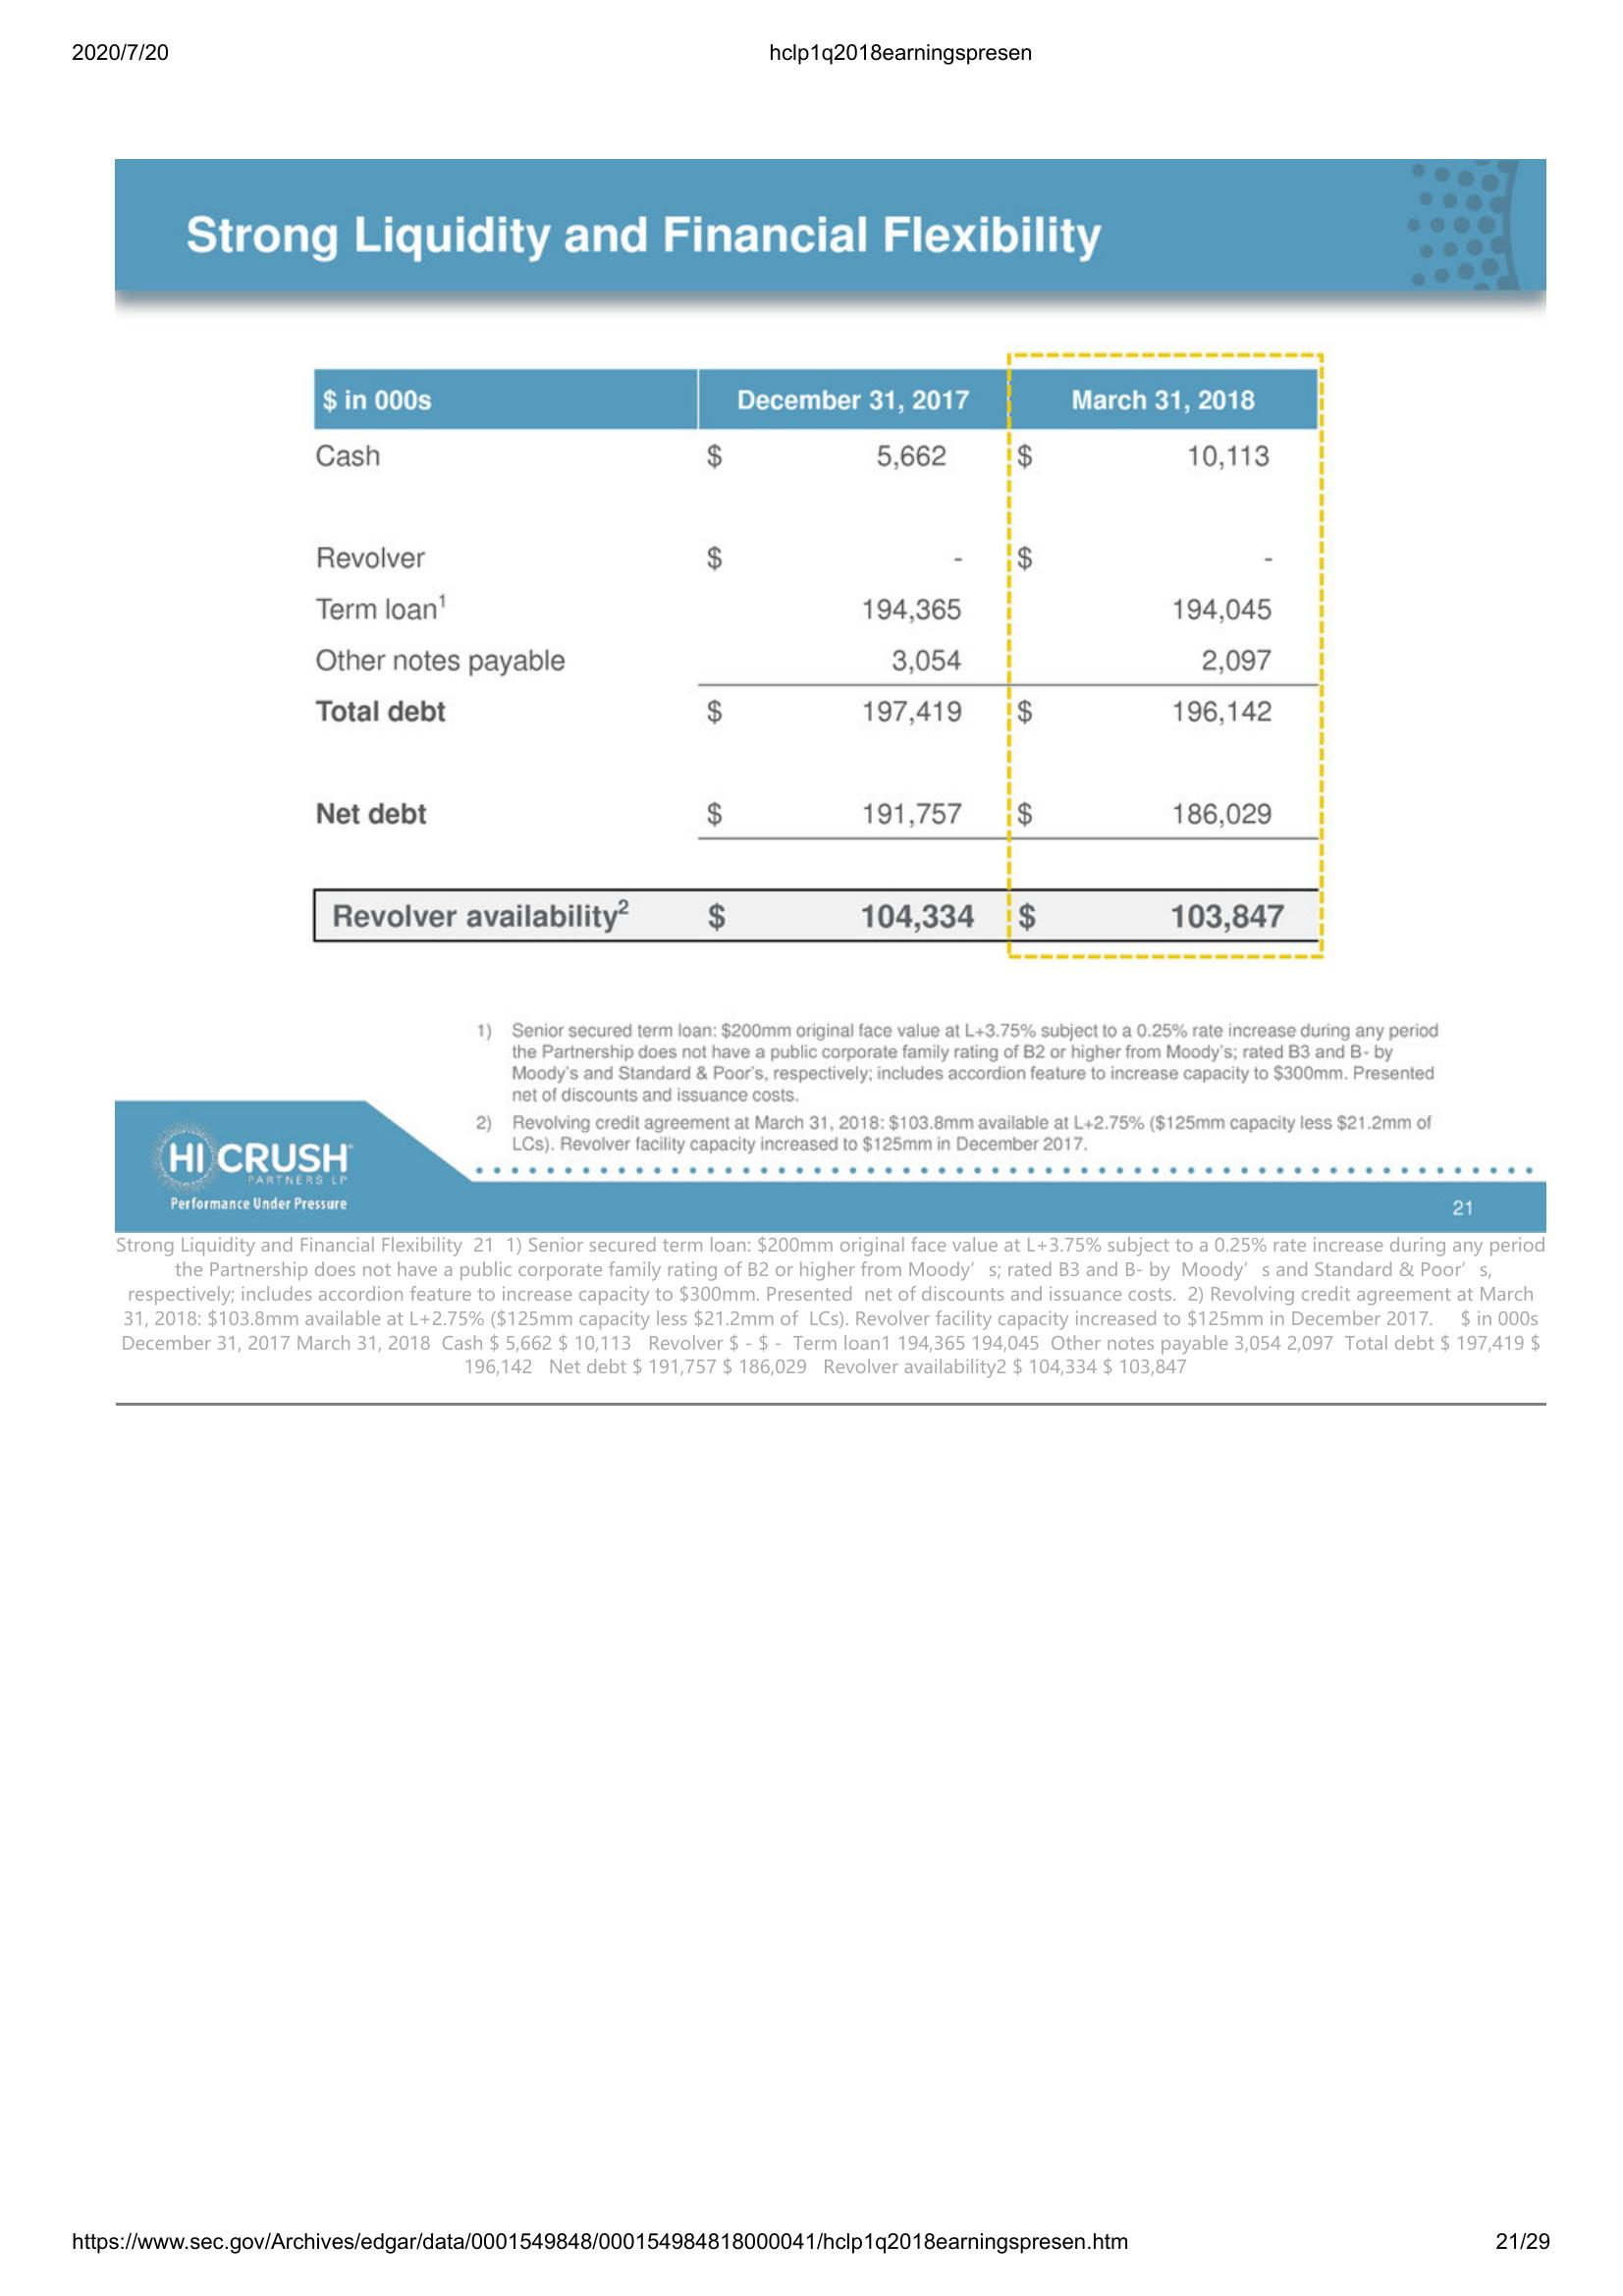table: (309, 362, 1326, 953)
